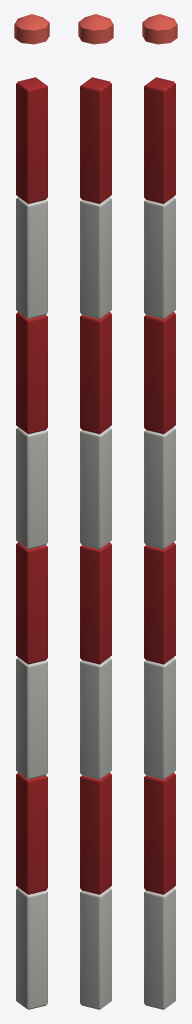
Rendered from GateArmFL.fbx.
3 renders of one model, left to right at view 1: azimuth 30°, elevation 25°; view 2: azimuth 150°, elevation 25°; view 3: azimuth 330°, elevation 25°, orthographic.
Visible parts, largest first — view 1: GateArmFL; view 2: GateArmFL; view 3: GateArmFL.
Boxes of the visible parts, bbox=[...] form: GateArmFL: bbox=[14, 14, 49, 1009]; GateArmFL: bbox=[78, 14, 113, 1009]; GateArmFL: bbox=[142, 14, 177, 1009].
Bounding box in the file's own units: 0.1293 × 4.3 × 0.1293.
